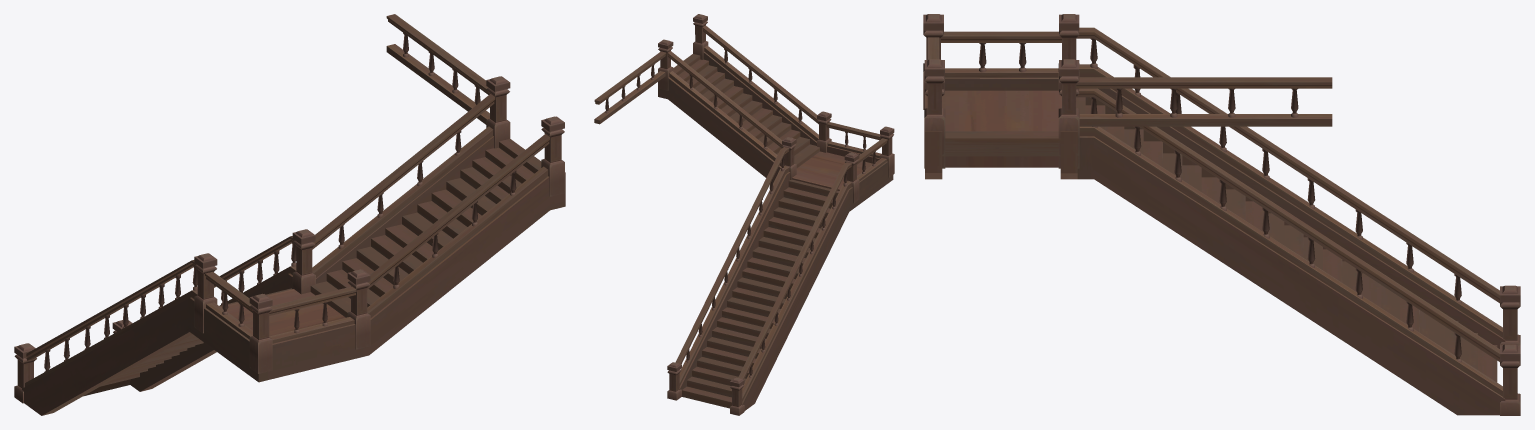
File: Homeworld_Interior_Md_Room_P_Stair_01_Vo.fbx
The picture shows the model from 3 angles, left to right: view 1: azimuth 30°, elevation 25°; view 2: azimuth 150°, elevation 25°; view 3: azimuth 270°, elevation 25°; orthographic projection. The views are drawn at different scales.
Visible parts, largest first — view 1: Homeworld_Interior_Md_Room_P_Stair_01_Vo; view 2: Homeworld_Interior_Md_Room_P_Stair_01_Vo; view 3: Homeworld_Interior_Md_Room_P_Stair_01_Vo.
Part boxes in pixels (box(x1,y1,x2,y2)): Homeworld_Interior_Md_Room_P_Stair_01_Vo: box(14, 14, 565, 415); Homeworld_Interior_Md_Room_P_Stair_01_Vo: box(594, 14, 894, 415); Homeworld_Interior_Md_Room_P_Stair_01_Vo: box(923, 14, 1520, 415).
Bounding box in the file's own units: 4.87 × 5.76 × 6.67.
